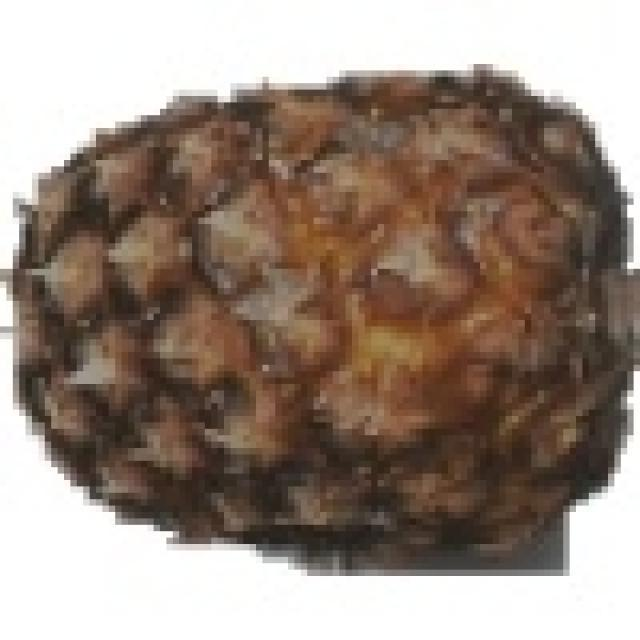pineapple: (13, 58, 614, 557)
